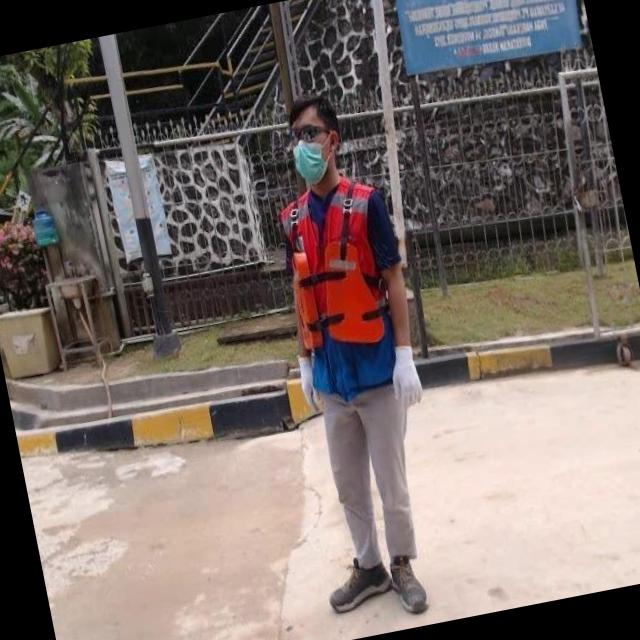boots: (321, 552, 398, 620), (385, 544, 431, 618)
gloves: (386, 343, 424, 409), (296, 355, 324, 413)
no-helmet: (280, 90, 354, 189)
vest: (275, 173, 415, 400)
